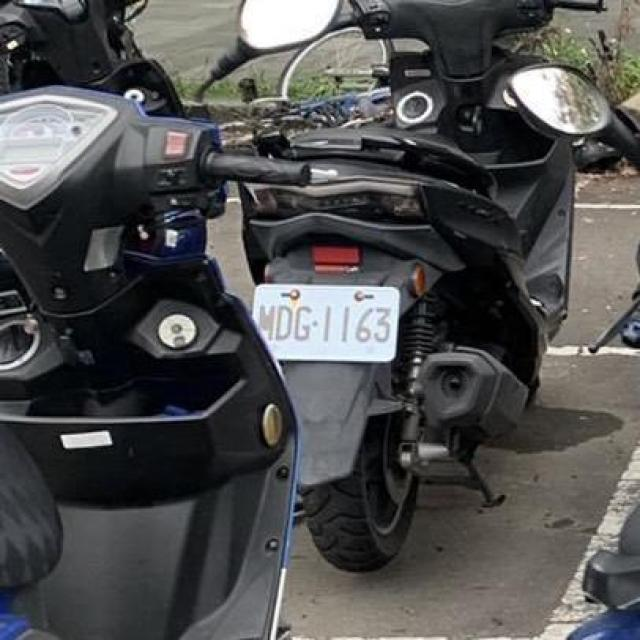W: (249, 277, 410, 369)
